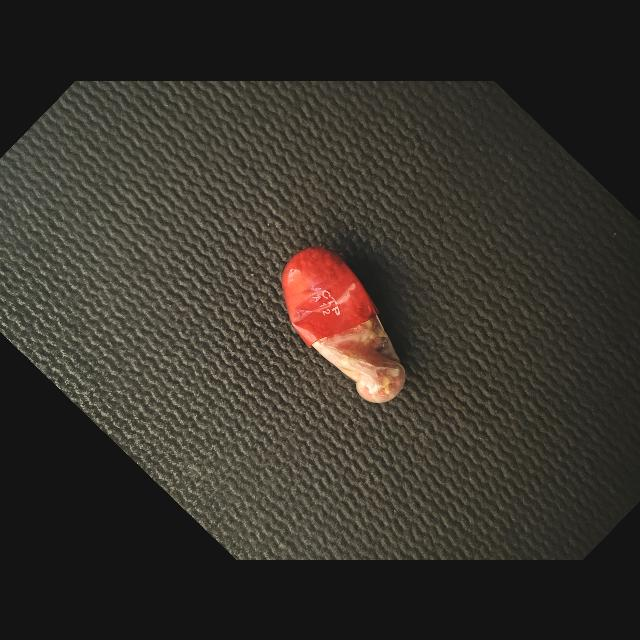Defective Capsule: (282, 246, 405, 403)
